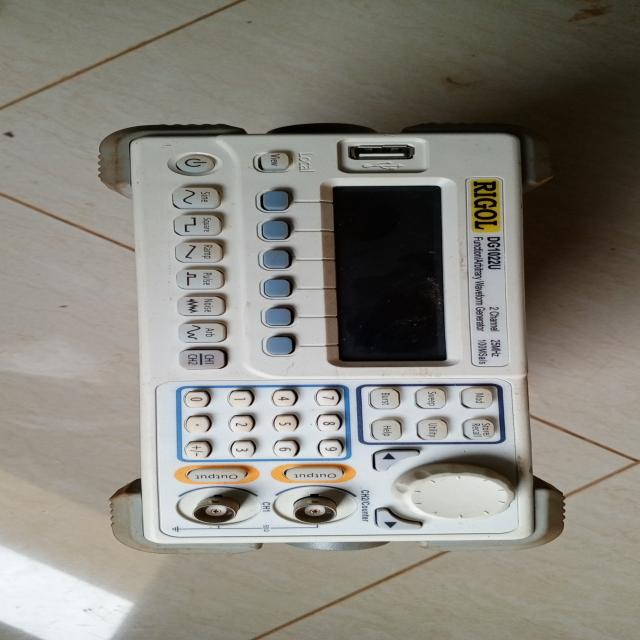Function Arbitrary Wave Form Generator 25Mhz: (82, 98, 577, 563)
